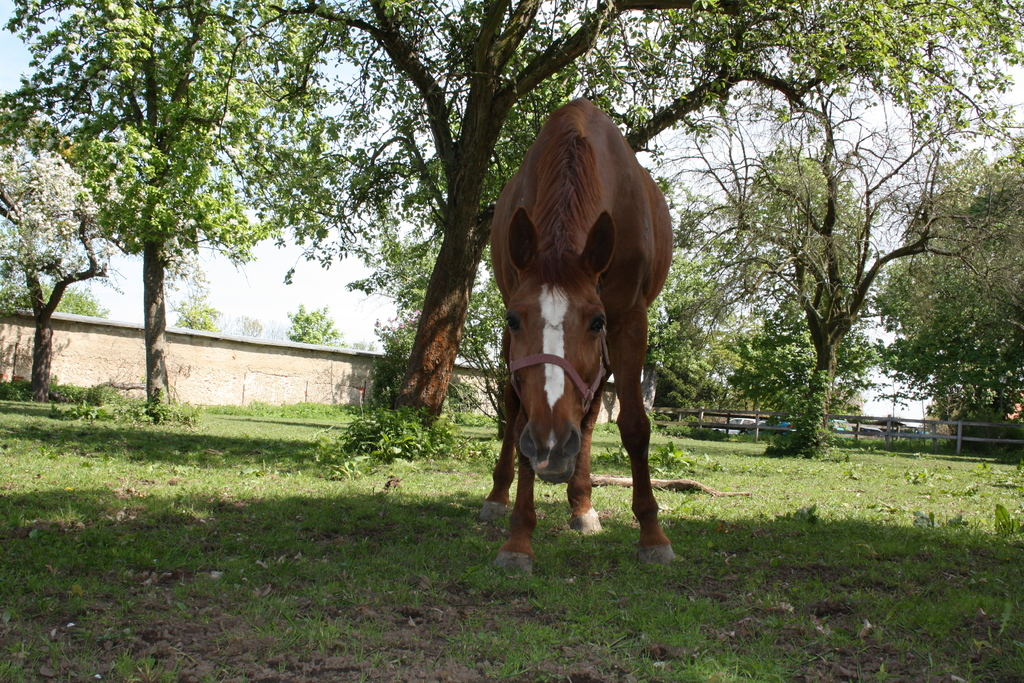horse: (487, 99, 682, 579)
